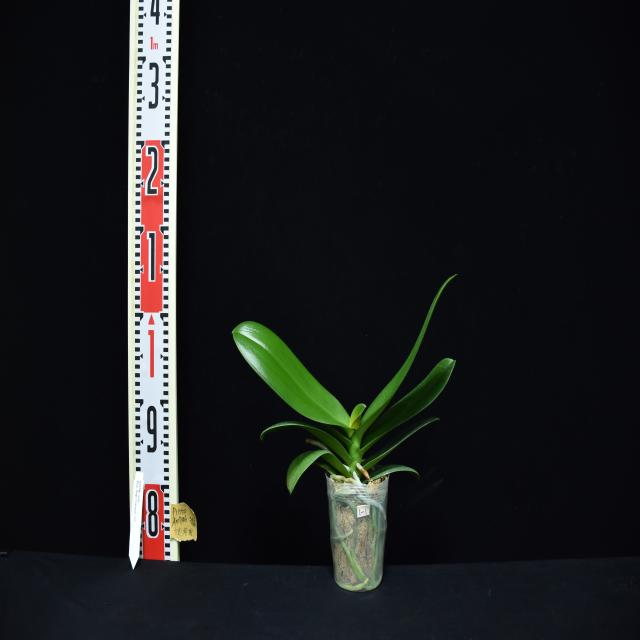leaf: (355, 274, 457, 438), (232, 323, 355, 439), (358, 358, 456, 454), (260, 421, 353, 467), (361, 417, 441, 470), (287, 449, 353, 493), (364, 464, 420, 483), (349, 403, 366, 430)
